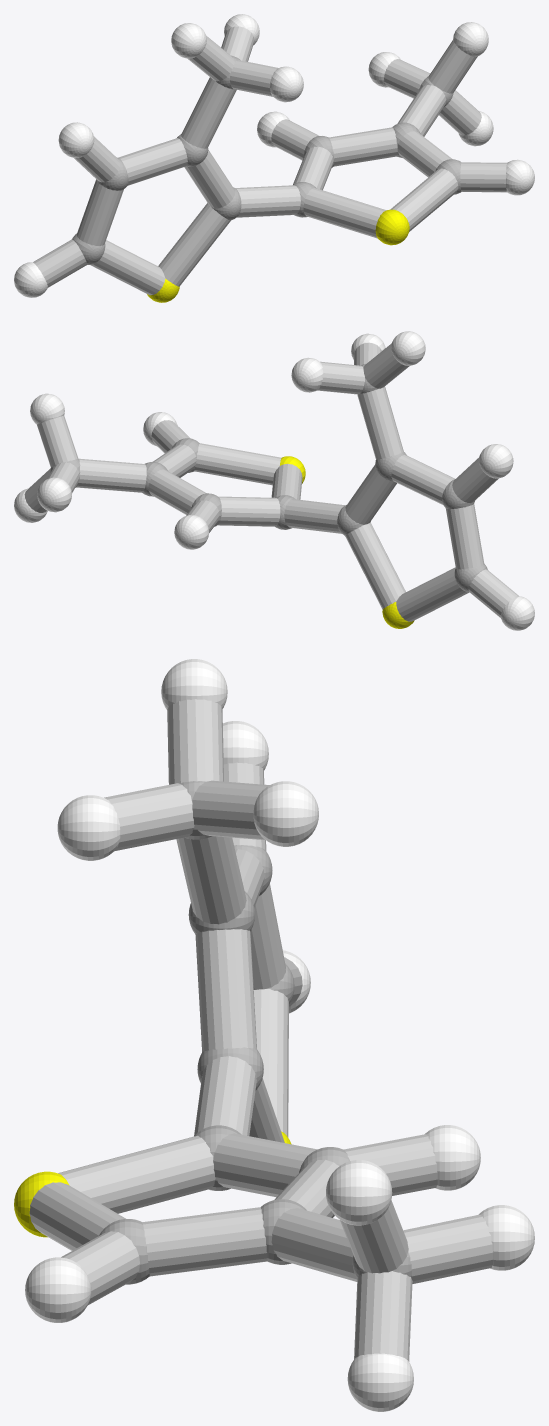
Rendered from Methylthiophene_Phi_15_Theta_90_Methylthiophene.glb.
3 views of the same model, one above another, from view 1: azimuth 30°, elevation 25°; view 2: azimuth 150°, elevation 25°; view 3: azimuth 270°, elevation 25° (orthographic). The views are drawn at different scales.
Visible parts, largest first — view 1: grp7965, grp3621, grp1, grp7241; view 2: grp7965, grp3621, grp1, grp7241; view 3: grp7965, grp3621, grp1, grp7241.
Boxes of the visible parts, x1,y1,x2,y2 form: grp7965: (33, 26, 506, 295); grp3621: (14, 14, 534, 297); grp1: (72, 55, 461, 264); grp7241: (147, 209, 409, 302); grp7965: (24, 342, 518, 621); grp3621: (14, 331, 534, 630); grp1: (50, 363, 487, 592); grp7241: (280, 456, 414, 628); grp7965: (29, 699, 493, 1361); grp3621: (25, 659, 534, 1411); grp1: (99, 781, 411, 1284); grp7241: (14, 1131, 291, 1237).
Size of the model in its own units: 9.71 by 5.31 by 4.71.
